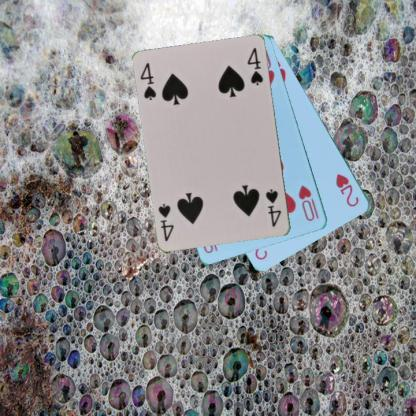10h: (296, 182, 316, 223)
2h: (334, 171, 361, 208)
4s: (138, 60, 158, 102), (263, 187, 282, 228)
